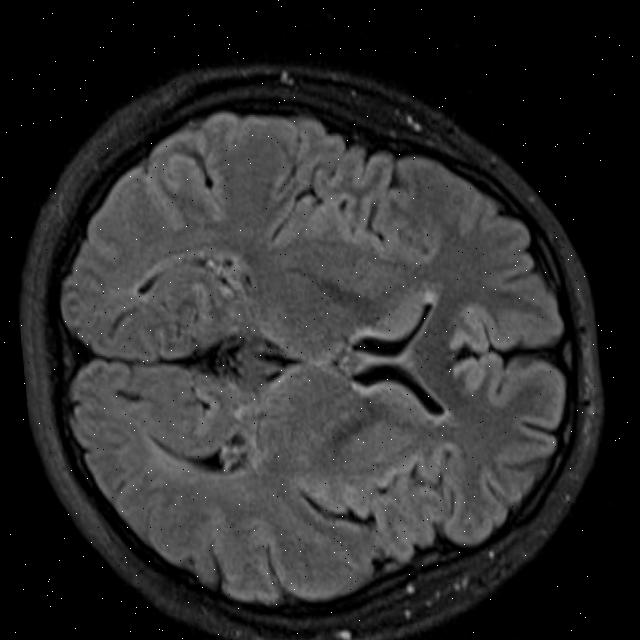NoTumor: (29, 84, 597, 632)
